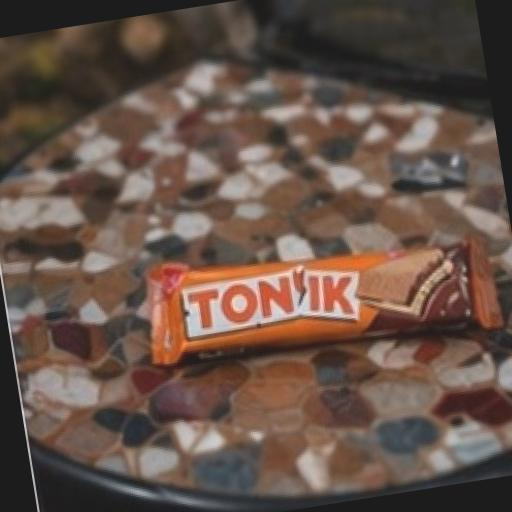tonik: (100, 122, 512, 483)
